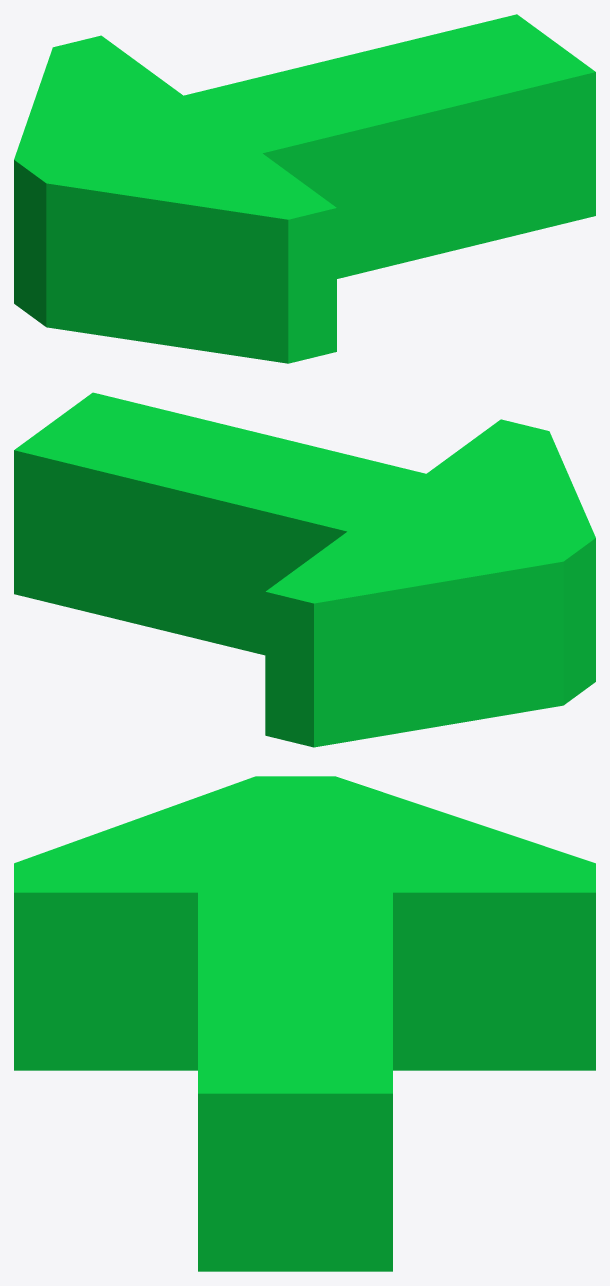
Rendered from arrow.fbx.
The picture shows the model from 3 angles, top to bottom: view 1: azimuth 30°, elevation 25°; view 2: azimuth 150°, elevation 25°; view 3: azimuth 270°, elevation 25°; orthographic projection. The views are drawn at different scales.
Parts seen in each view (by area): view 1: Arrow; view 2: Arrow; view 3: Arrow.
Boxes of the visible parts, x1,y1,x2,y2 form: Arrow: (14,14,595,363); Arrow: (14,392,595,747); Arrow: (14,776,595,1271).
Bounding box in the file's own units: 352 × 92.09 × 273.
